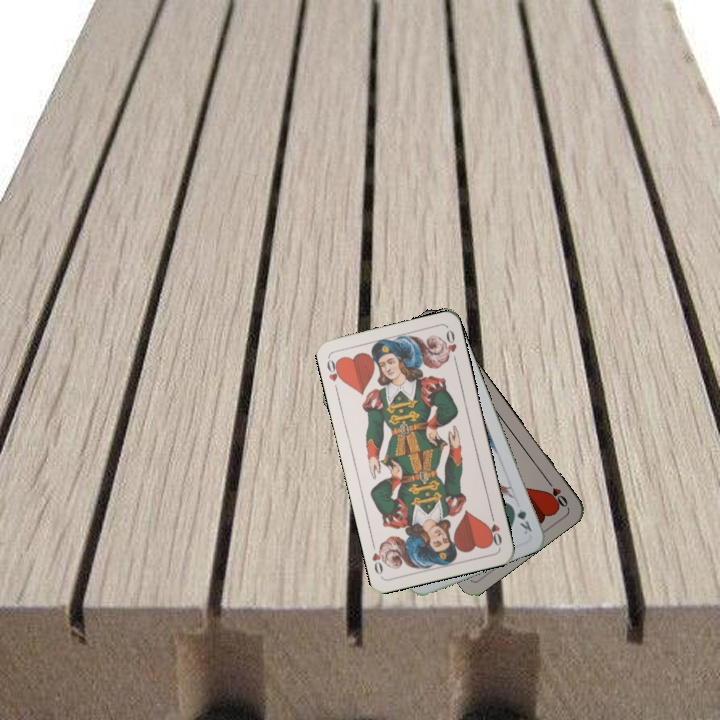GK: (507, 500, 535, 537)
HO: (542, 475, 570, 510), (323, 354, 346, 394), (484, 509, 504, 548)
